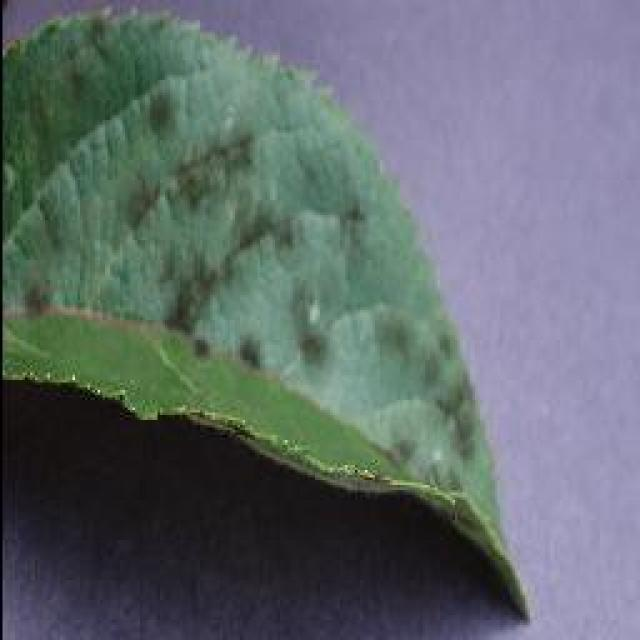apple scab disease: (0, 3, 530, 635)
